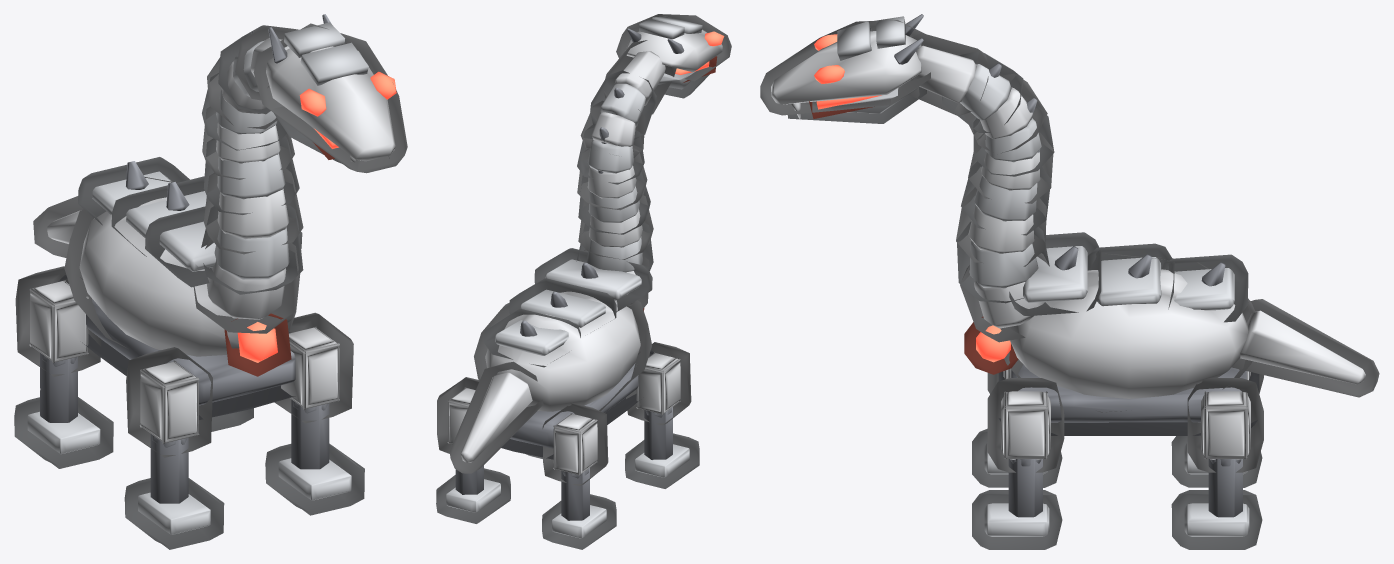
Rendered from hydra_head.glb.
The picture shows the model from 3 angles, left to right: view 1: azimuth 30°, elevation 25°; view 2: azimuth 150°, elevation 25°; view 3: azimuth 270°, elevation 25°; orthographic projection. The views are drawn at different scales.
Visible parts, largest first — view 1: M_Body, M_Body_Outline, M_Head, M_LegB_FR, M_LegA_BR, M_LegA_FL, M_LegB_FR_Outline, M_LegA_BR_Outline, M_LegA_FL_Outline, M_Head_Outline, M_LegB_BL_Outline; view 2: M_Body, M_Body_Outline, M_LegA_BR, M_LegB_FR, M_Head, M_LegA_BR_Outline, M_LegB_FR_Outline, M_LegB_BL_Outline, M_LegB_BL, M_Head_Outline; view 3: M_Body, M_Body_Outline, M_Head, M_LegA_FL, M_LegB_BL, M_LegA_FL_Outline, M_LegB_BL_Outline, M_Head_Outline, M_LegB_FR_Outline, M_LegA_BR_Outline.
Boxes of the visible parts, x1,y1,x2,y2 form: M_Body: (47,31,295,405); M_Body_Outline: (33,25,303,419); M_Head: (266,14,396,170); M_LegB_FR: (138,360,210,534); M_LegA_BR: (27,280,100,453); M_LegA_FL: (278,326,351,500); M_LegB_FR_Outline: (124,347,224,549); M_LegA_BR_Outline: (14,266,113,468); M_LegA_FL_Outline: (265,312,364,515); M_Head_Outline: (253,23,407,173); M_LegB_BL_Outline: (211,408,253,431); M_Body: (460,51,665,462); M_Body_Outline: (449,40,676,473); M_LegA_BR: (552,413,606,538); M_LegB_FR: (635,352,689,477); M_Head: (625,16,724,89); M_LegA_BR_Outline: (542,403,616,549); M_LegB_FR_Outline: (625,342,699,488); M_LegB_BL_Outline: (436,377,510,523); M_LegB_BL: (446,387,500,512); M_Head_Outline: (616,14,731,98); M_Body: (910,45,1365,422); M_Body_Outline: (908,33,1379,435); M_Head: (771,14,923,119); M_LegA_FL: (984,391,1050,536); M_LegB_BL: (1184,391,1250,536); M_LegA_FL_Outline: (972,378,1064,549); M_LegB_BL_Outline: (1171,378,1263,549); M_Head_Outline: (760,20,930,123); M_LegB_FR_Outline: (972,373,1062,487); M_LegA_BR_Outline: (1171,374,1263,487).
Size of the model in its own units: 0.746 by 1.84 by 2.11.
